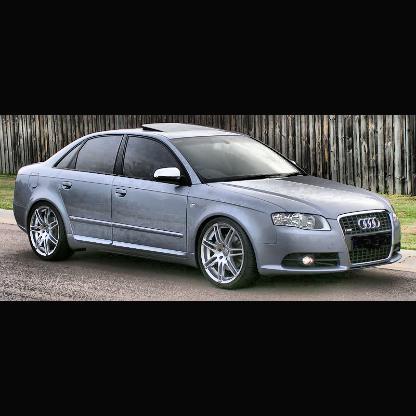Audi S4 Sedan 2007: (15, 122, 406, 289)
